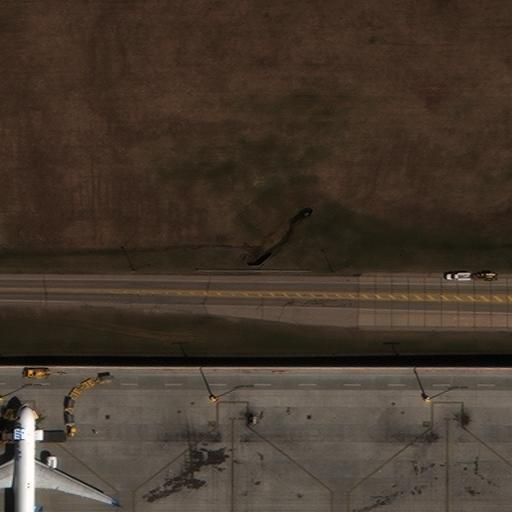Large Civil Transport: (0, 401, 116, 511)
